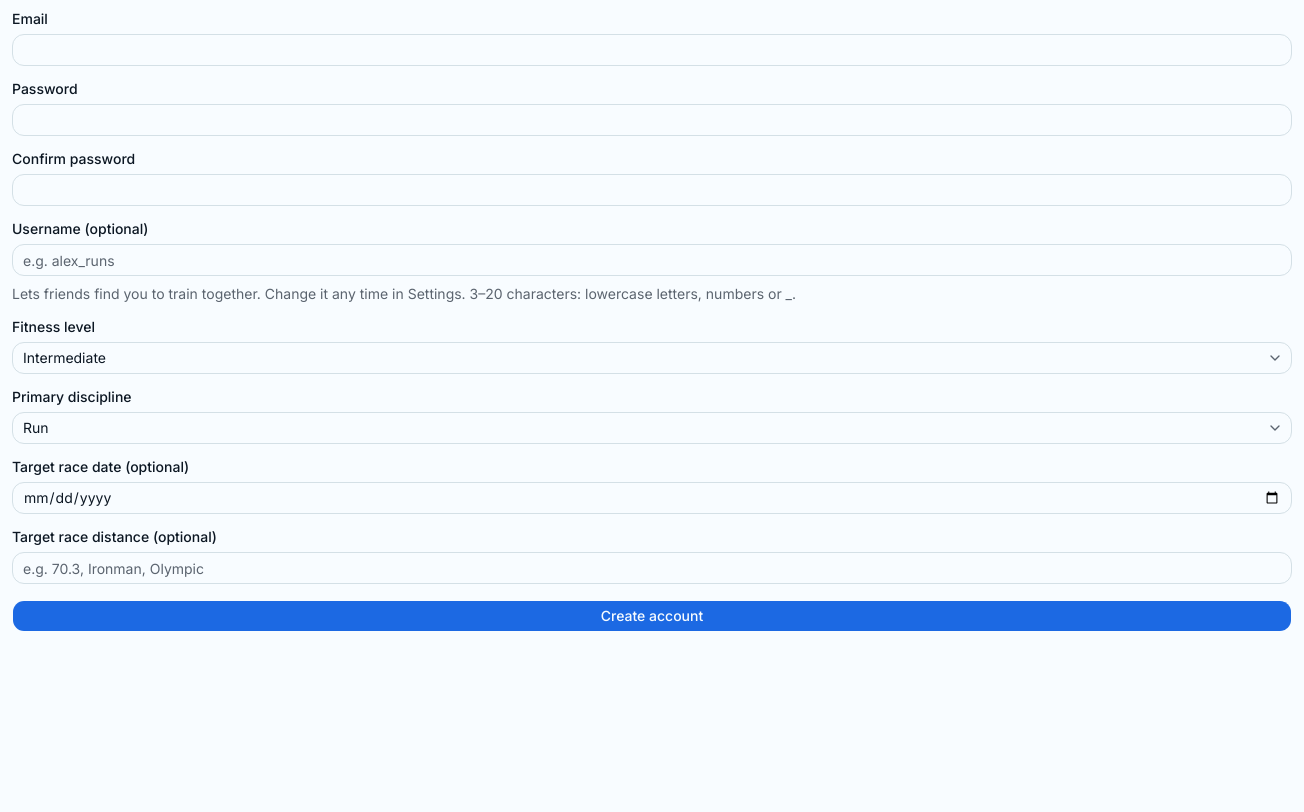
SignupForm › shows a spinner while creating the account, and stays disabled through the navigation on success
Type "a@b.co" into the field labelled "Email" at (652, 50), box [12,34,1292,66]
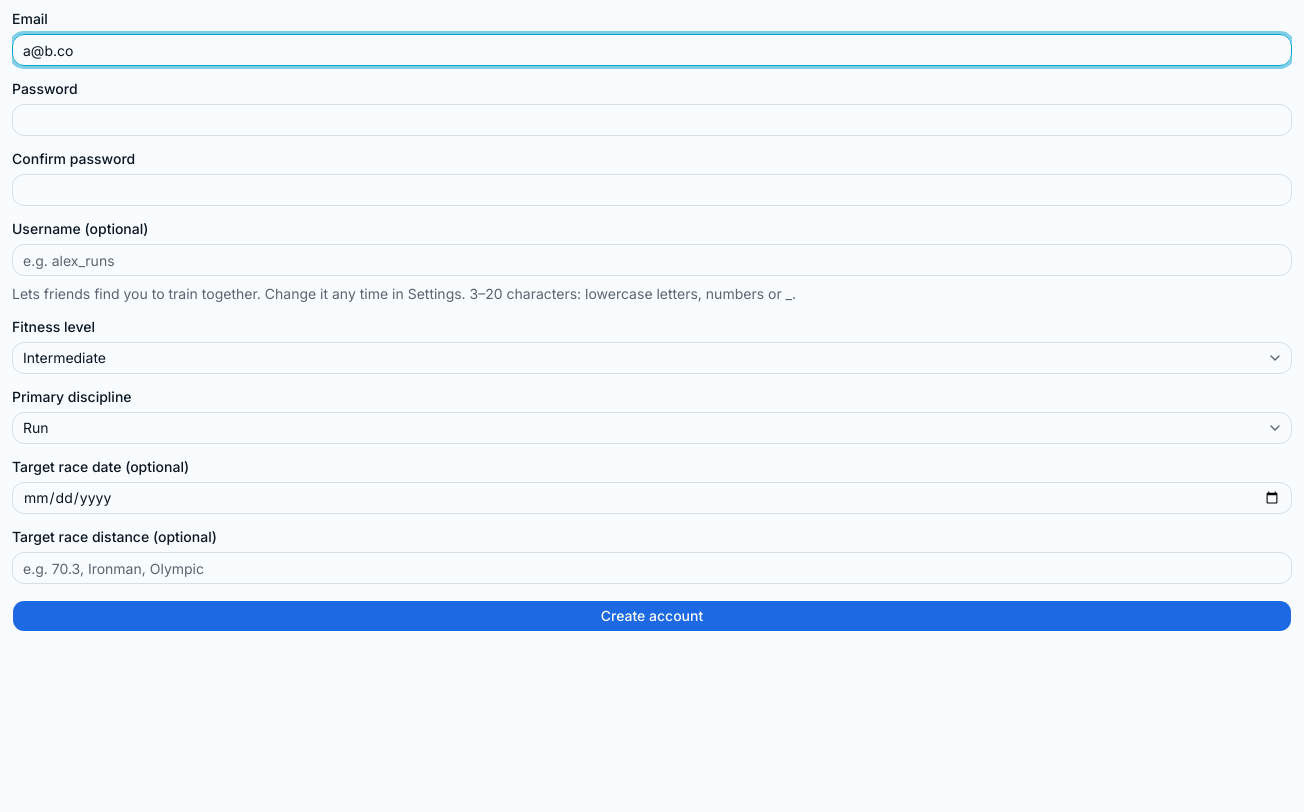
Type "longenough" into the password field labelled "Password" at (652, 120), box [12,104,1292,136]
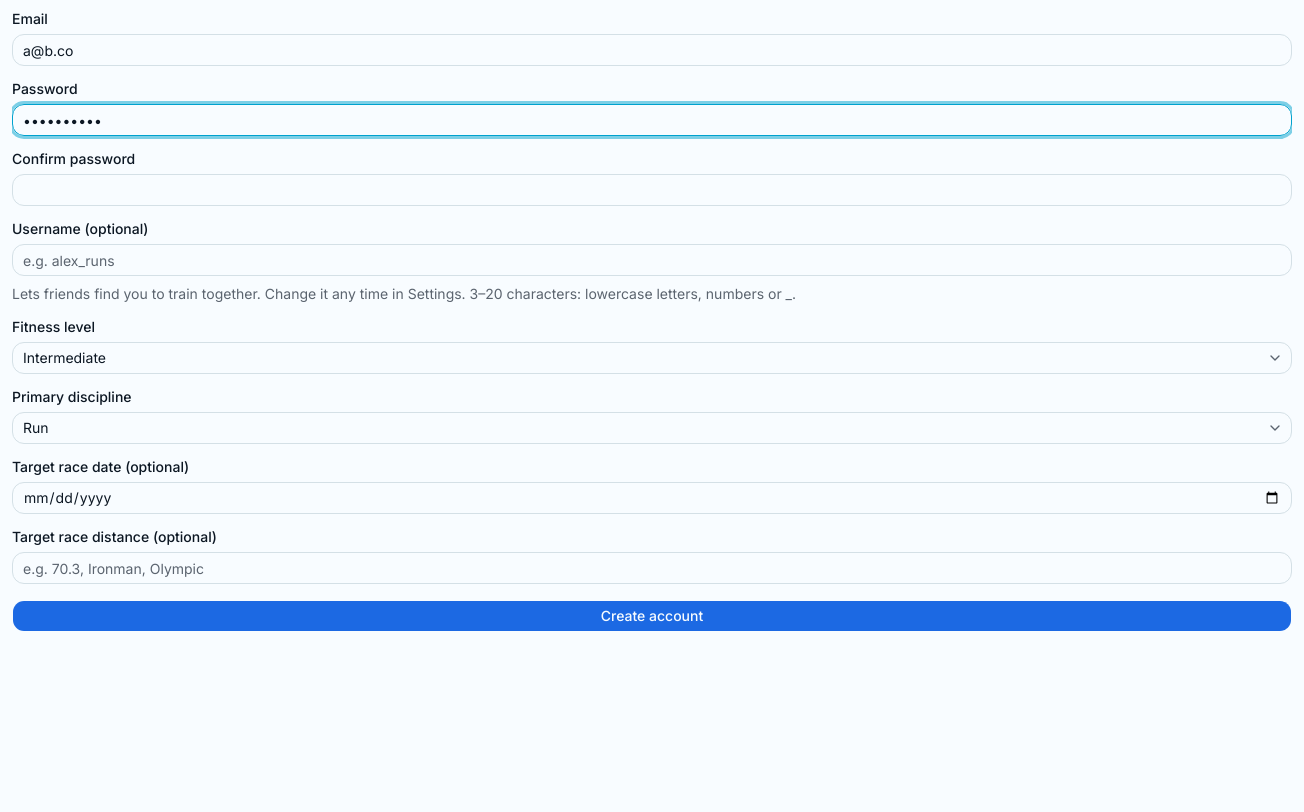
Type "longenough" into the password field labelled "Confirm password" at (652, 190), box [12,174,1292,206]
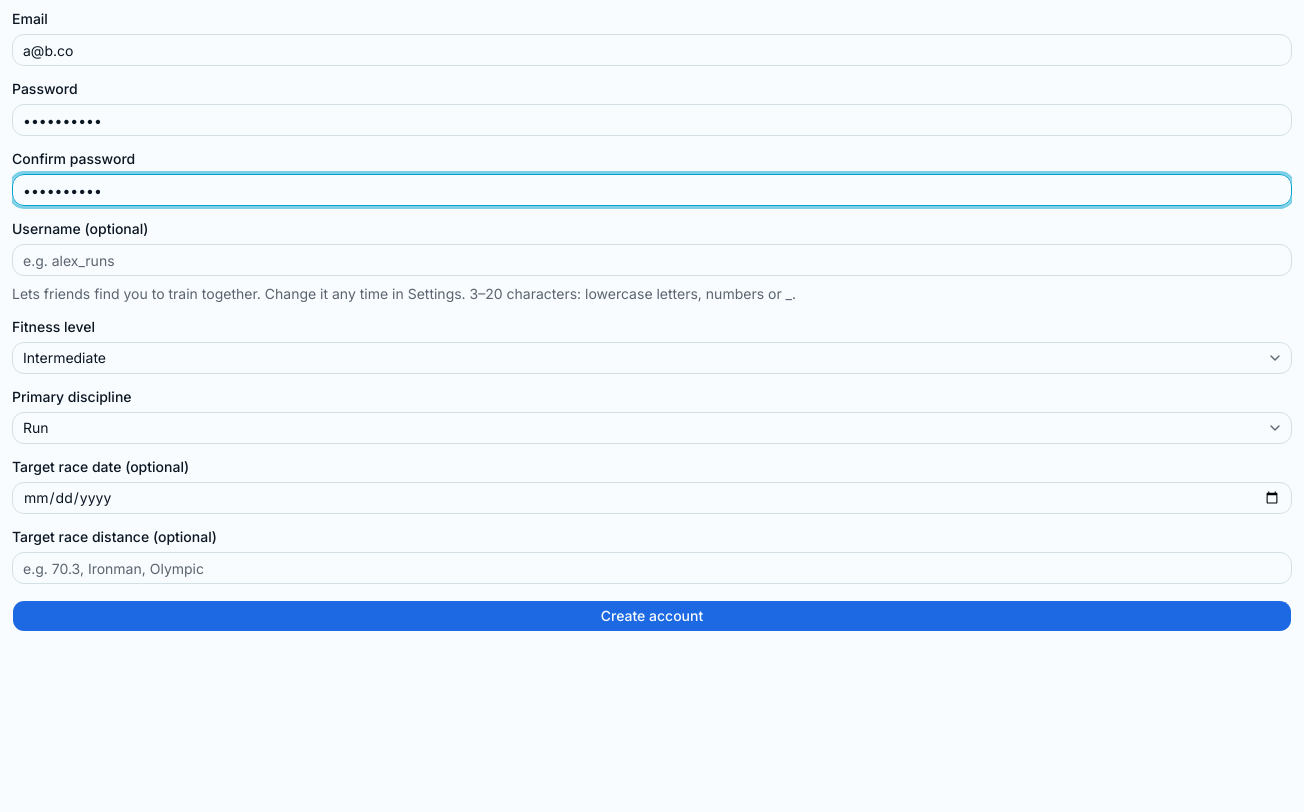
Click the button "Create account" at (652, 616), box [12,600,1292,632]
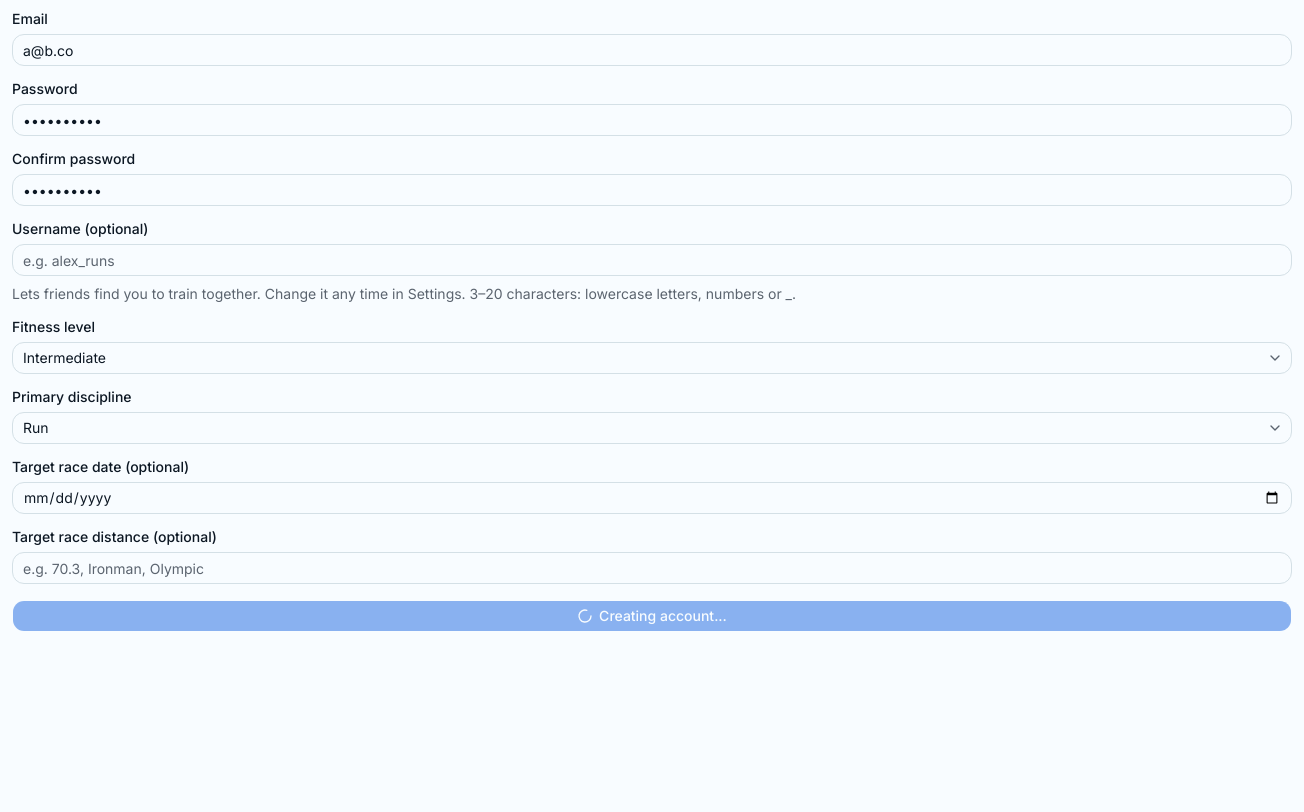
Now the 3rd icon is shown, box [577,608,593,624]
Now the button "Creating account..." is disabled, box [12,600,1292,632]
